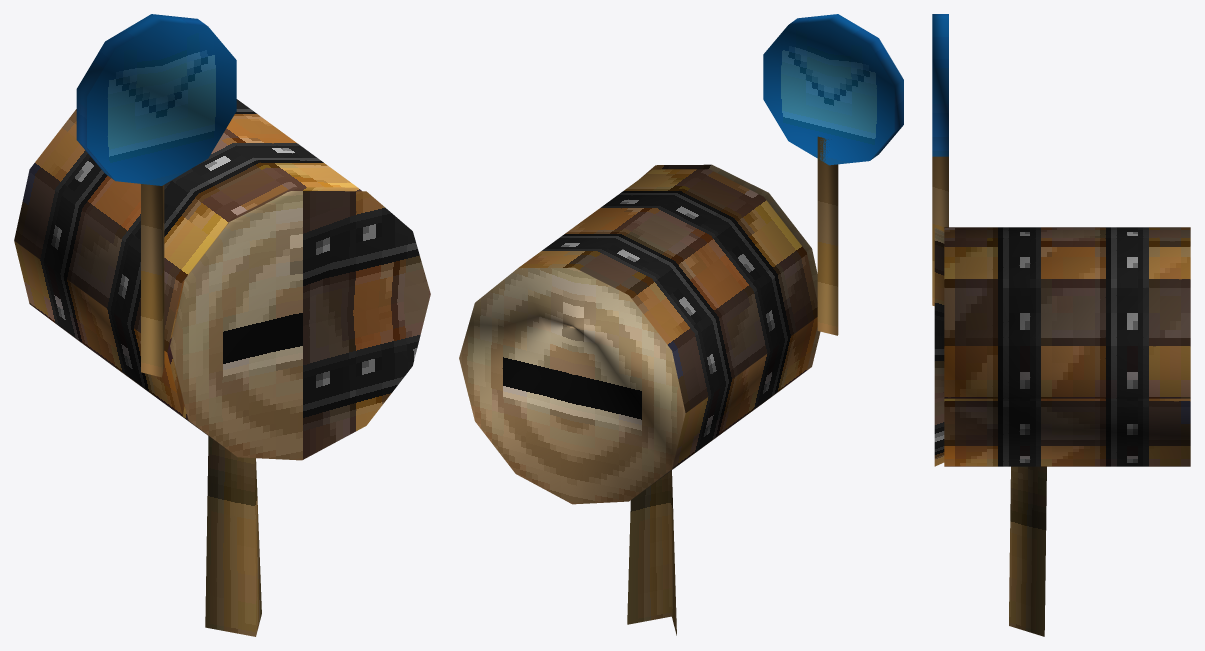
Rendered from int_post_G00.dae.
3 views of the same model, side by side, from view 1: azimuth 30°, elevation 25°; view 2: azimuth 150°, elevation 25°; view 3: azimuth 270°, elevation 25° (orthographic). The views are drawn at different scales.
Visible parts, largest first — view 1: int_post_G00; view 2: int_post_G00; view 3: int_post_G00.
Boxes of the visible parts, x1=… form: int_post_G00: x1=14, y1=14, x2=430, y2=636; int_post_G00: x1=459, y1=14, x2=903, y2=635; int_post_G00: x1=932, y1=14, x2=1190, y2=636.
Size of the model in its own units: 24.05 by 45.58 by 19.38.
1 material, 1 textured.
